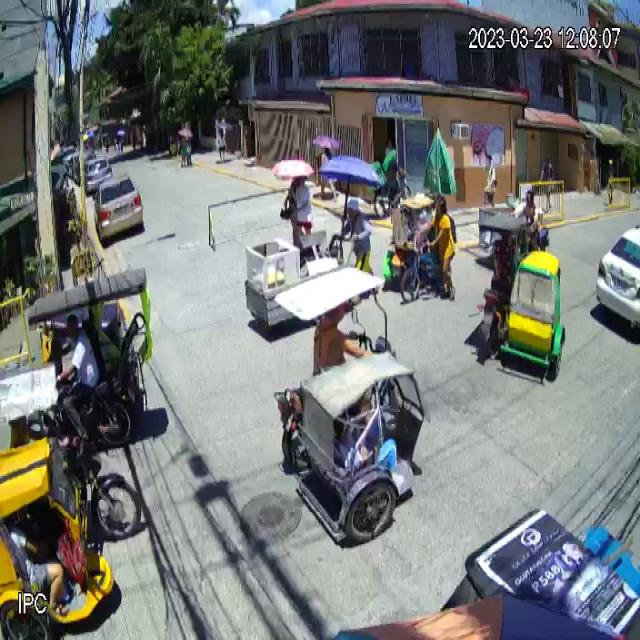Tricycle: (269, 264, 428, 554), (0, 365, 140, 639), (474, 210, 568, 386)
